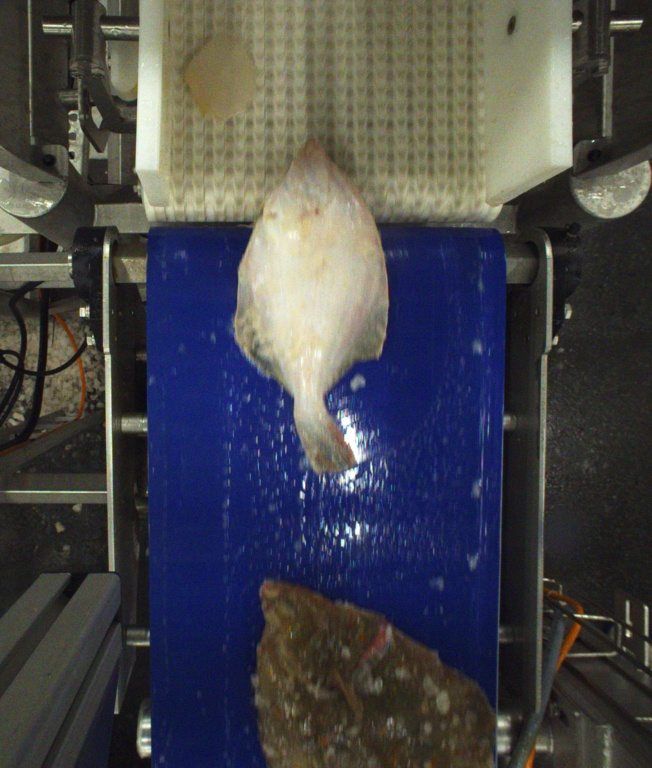PLE: (231, 137, 393, 476)
